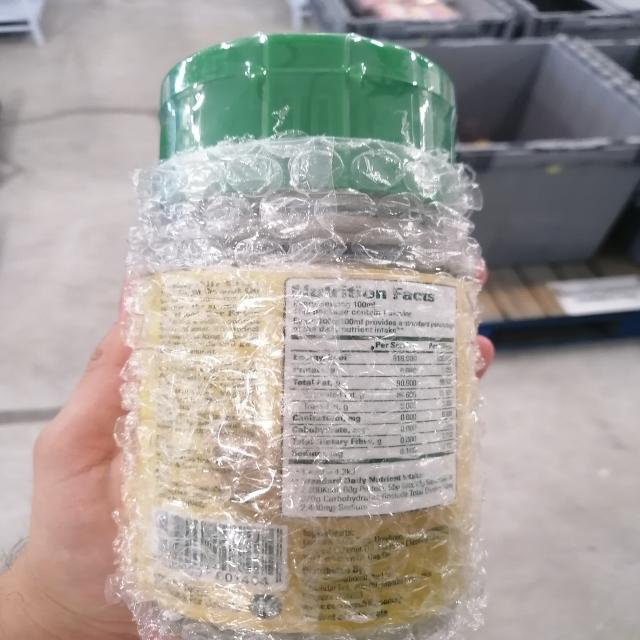object_name: (141, 66, 473, 630)
